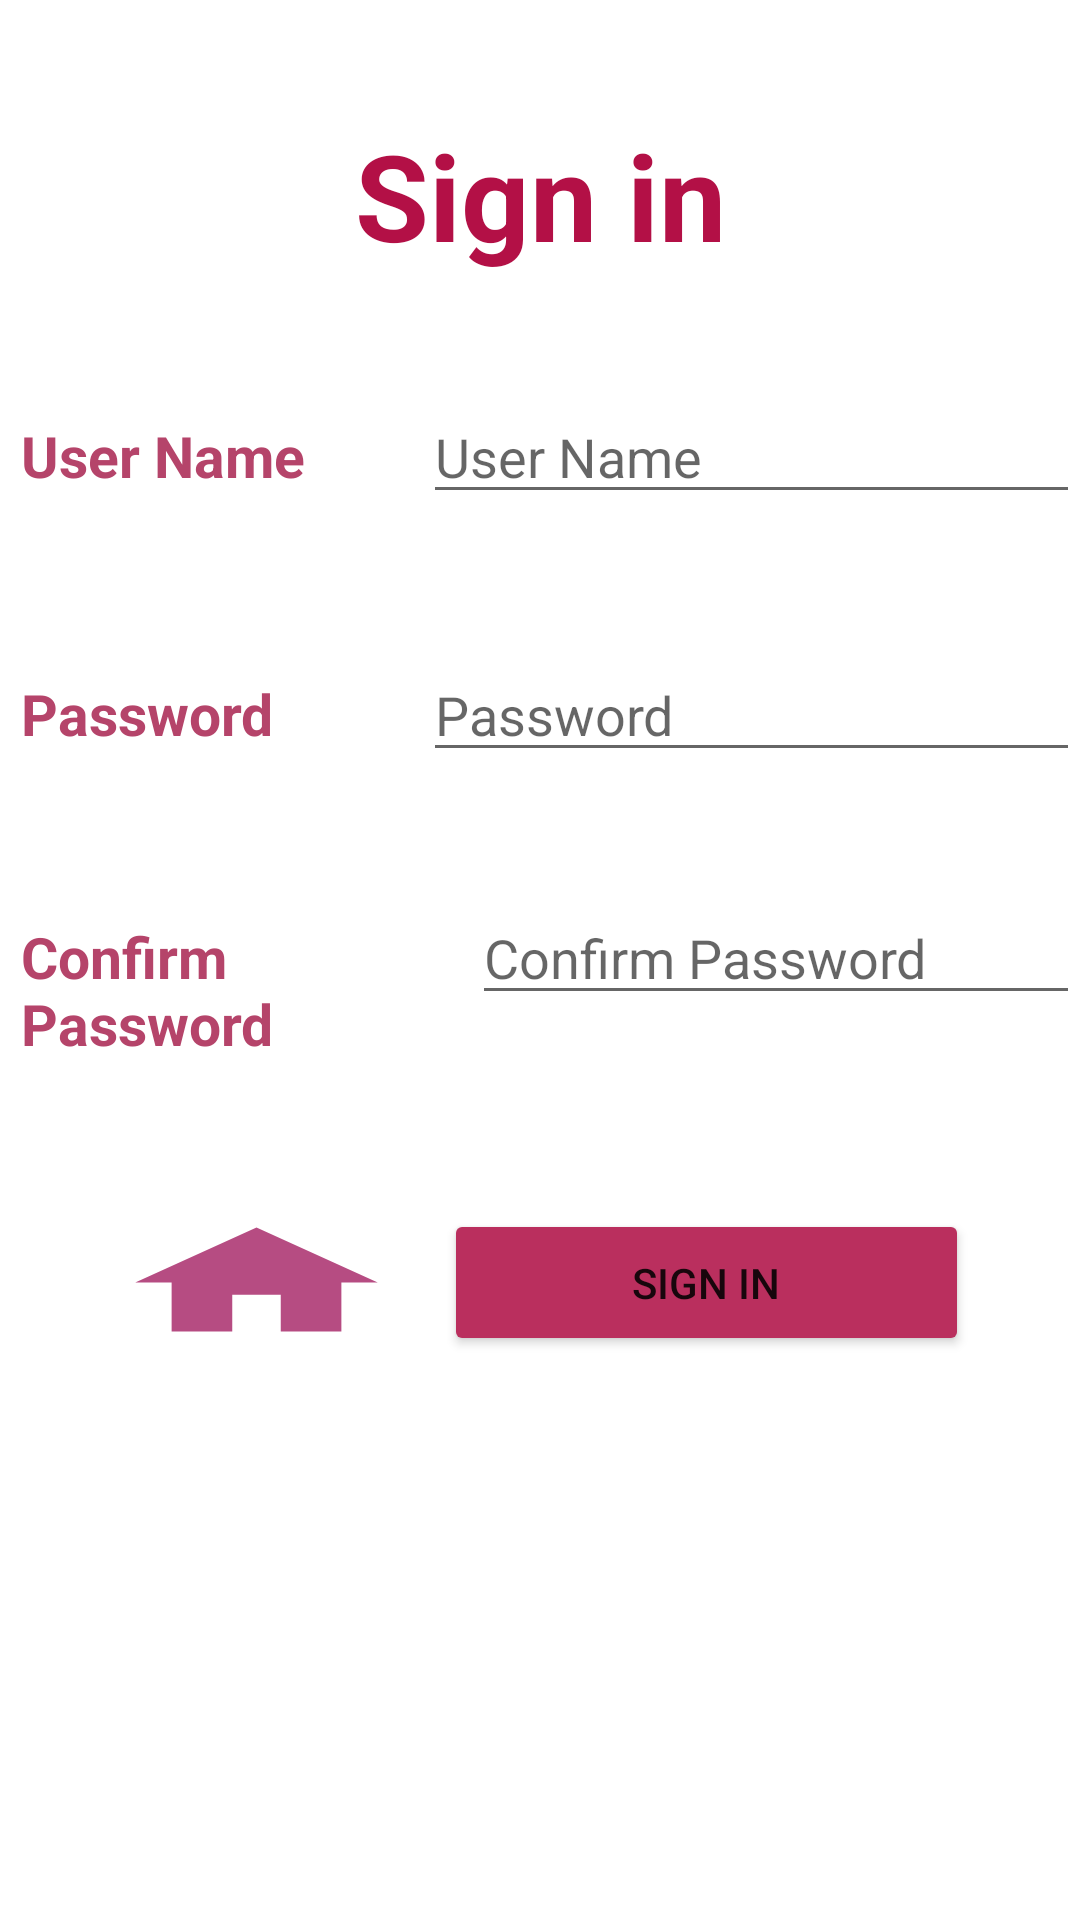

Where icons sit on this 1080 x 1920 app screen, as [x1,y1,x2,y2]:
home: [136,1227,377,1332]
